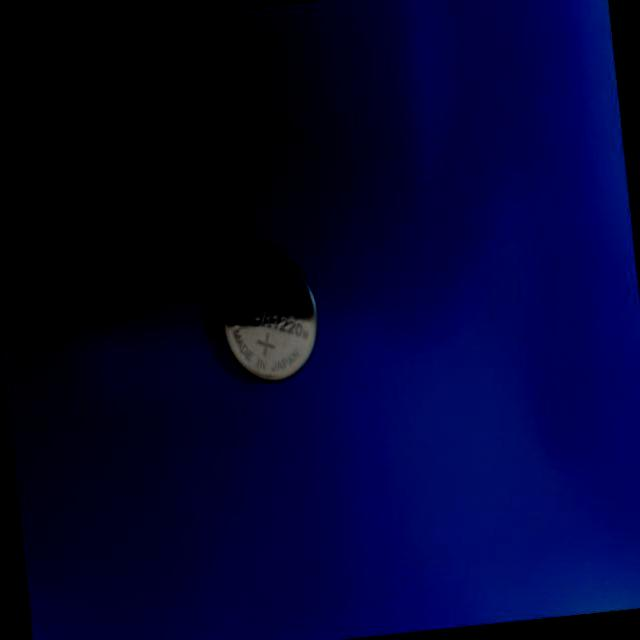COIN: (215, 247, 322, 390)
